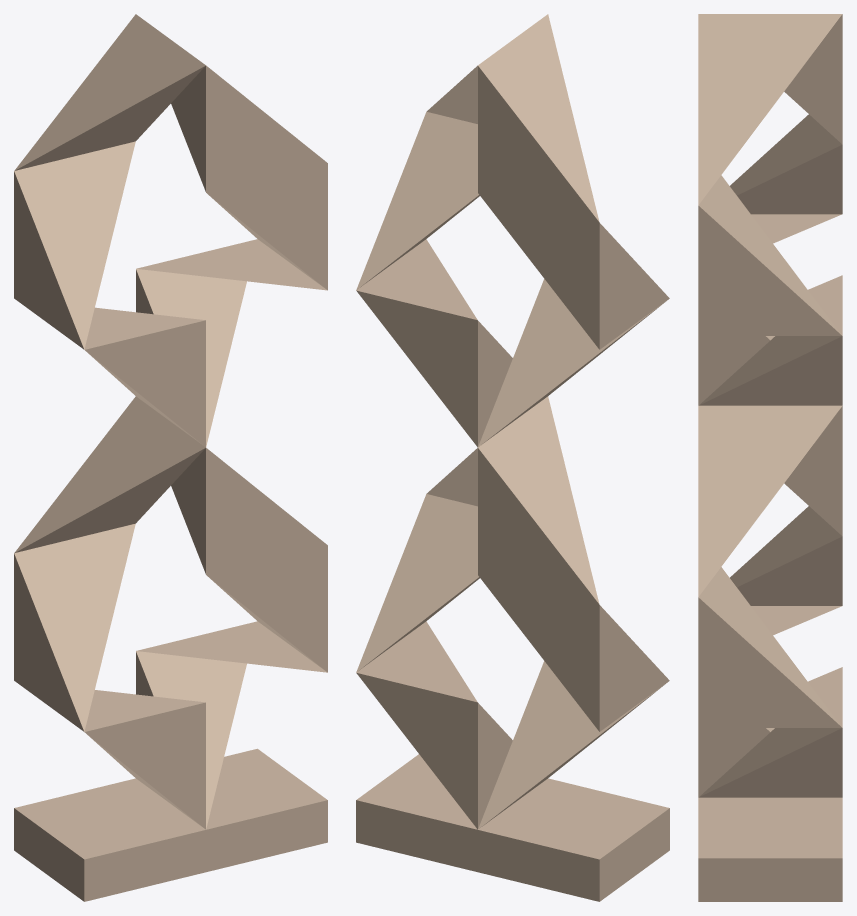
File: sculpture.FBX
The picture shows the model from 3 angles, left to right: view 1: azimuth 30°, elevation 25°; view 2: azimuth 150°, elevation 25°; view 3: azimuth 270°, elevation 25°; orthographic projection. The views are drawn at different scales.
Parts seen in each view (by area): view 1: Layer0_001; view 2: Layer0_001; view 3: Layer0_001.
Boxes of the visible parts, box(x1,y1,x2,y2) form: Layer0_001: box(14, 14, 327, 901); Layer0_001: box(356, 14, 669, 901); Layer0_001: box(698, 14, 842, 901).
Bounding box in the file's own units: 322 × 1021 × 161.
